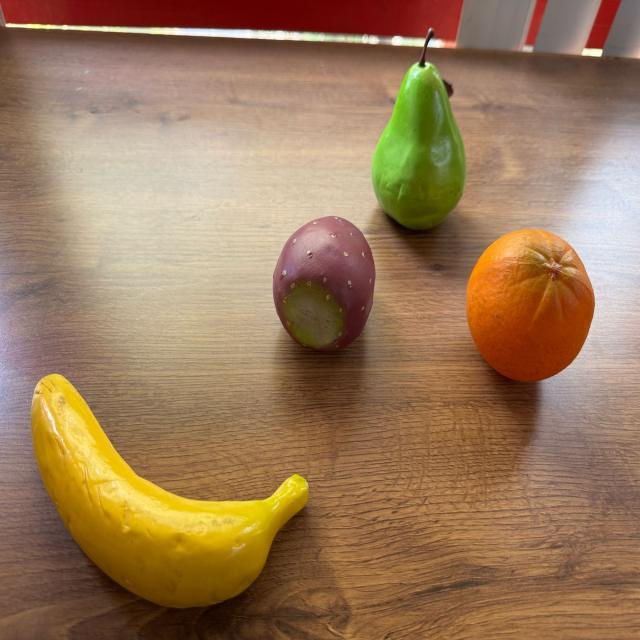banana: (31, 372, 309, 610)
orange: (466, 228, 595, 382)
pear: (371, 31, 466, 230)
tuna: (273, 215, 375, 353)
